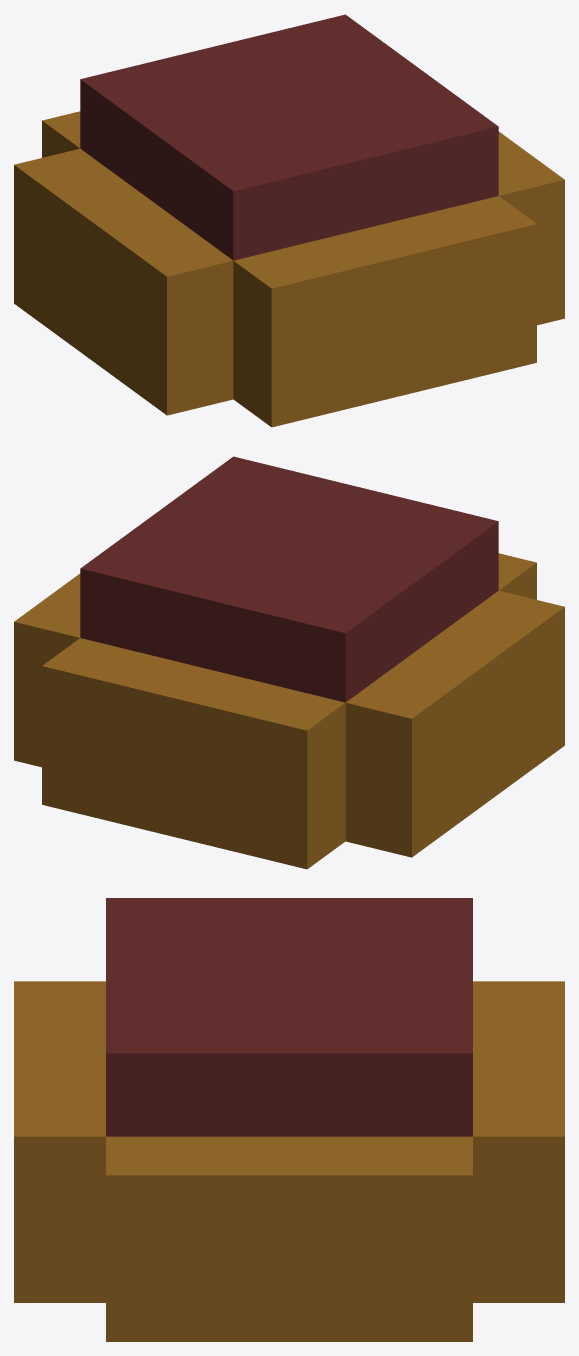
Rendered from char-70-helm_lgt_3a_ja_color.obj.
3 views of the same model, one above another, from view 1: azimuth 30°, elevation 25°; view 2: azimuth 150°, elevation 25°; view 3: azimuth 270°, elevation 25° (orthographic). The views are drawn at different scales.
Visible parts, largest first — view 1: helm_lgt_3a_ja_color; view 2: helm_lgt_3a_ja_color; view 3: helm_lgt_3a_ja_color.
Boxes of the visible parts, left/top/right/bottom form: helm_lgt_3a_ja_color: left=14, top=14, right=564, bottom=427; helm_lgt_3a_ja_color: left=14, top=456, right=564, bottom=869; helm_lgt_3a_ja_color: left=14, top=898, right=564, bottom=1341.
Bounding box in the file's own units: 0.6 × 0.3 × 0.6.
1 material, 1 textured.
